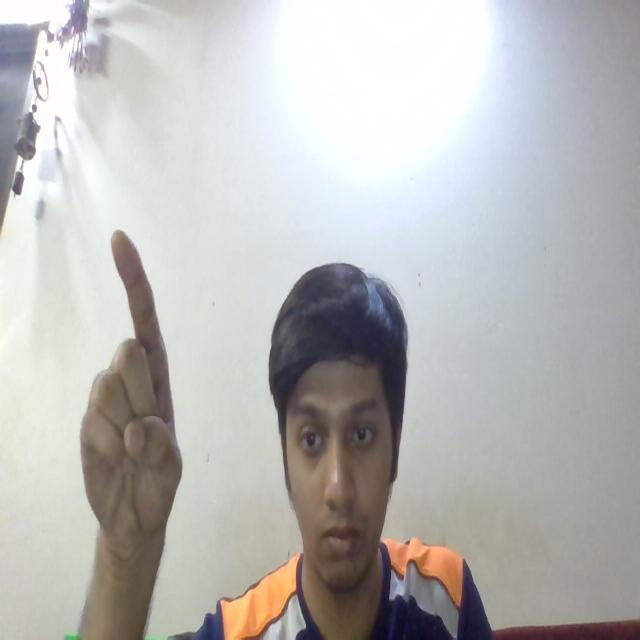Z: (62, 220, 207, 560)
